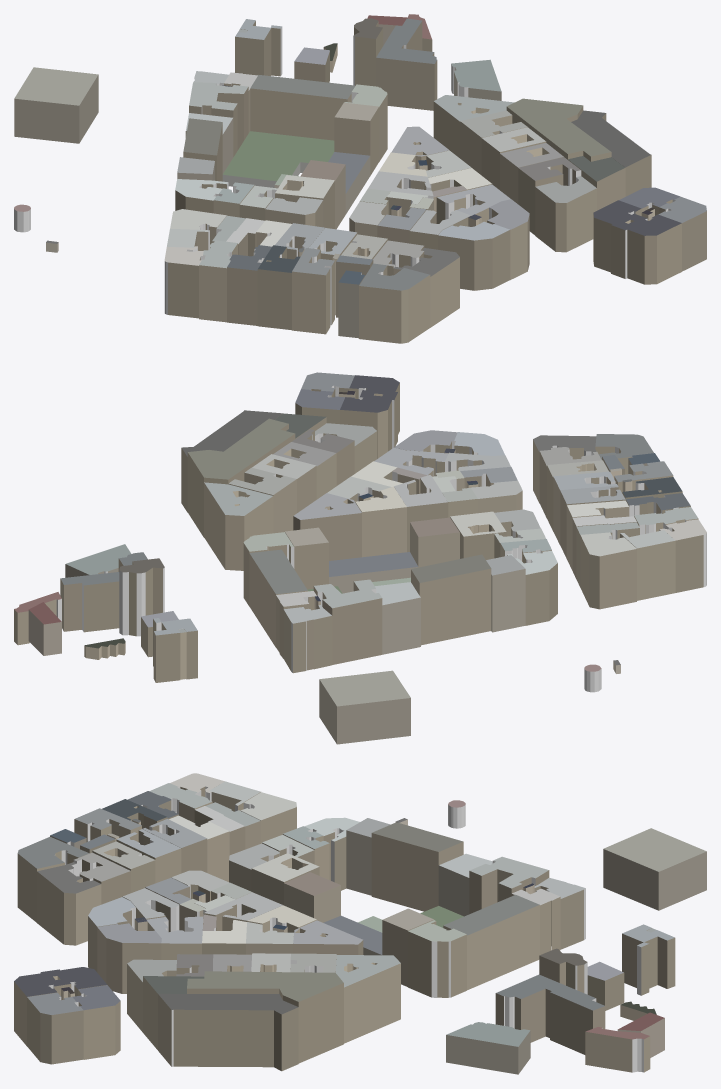
3 renders of one model, top to bottom at view 1: azimuth 30°, elevation 25°; view 2: azimuth 150°, elevation 25°; view 3: azimuth 270°, elevation 25°, orthographic. The views are drawn at different scales.
Parts seen in each view (by area): view 1: tuile; view 2: tuile; view 3: tuile.
Part boxes in pixels (x1,y1,x2,y2): tuile: [14, 14, 706, 343]; tuile: [14, 372, 706, 744]; tuile: [14, 773, 706, 1074].
Bounding box in the file's own units: 244 × 32.92 × 284.
